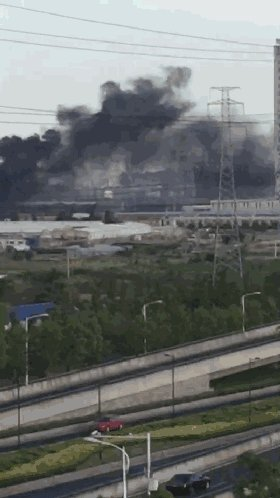smoke: (5, 76, 270, 187)
